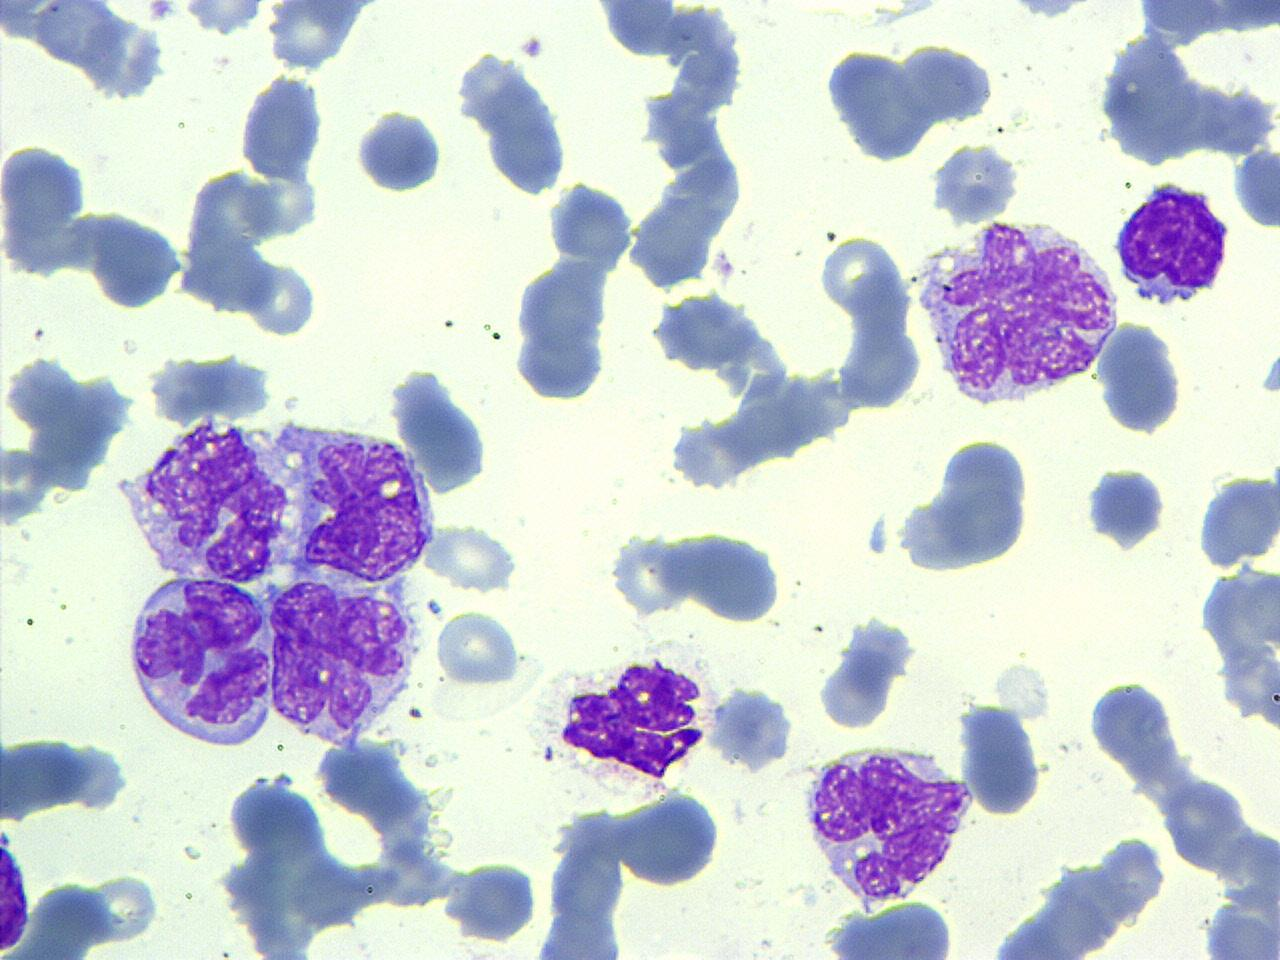Platelets: (349, 104, 445, 195), (1083, 462, 1167, 549), (422, 523, 522, 594), (1231, 145, 1280, 232), (1002, 1, 1100, 22), (864, 512, 891, 560), (1258, 354, 1280, 399), (520, 33, 546, 61), (146, 0, 175, 22), (426, 596, 444, 616), (1268, 458, 1280, 484)
RBC: (0, 139, 102, 282), (614, 786, 724, 890), (670, 528, 784, 628), (817, 232, 904, 318), (606, 530, 690, 617), (434, 606, 522, 688), (422, 522, 522, 594)
WBC: (0, 0, 443, 384), (312, 3, 768, 358), (104, 353, 449, 770), (211, 735, 474, 958), (906, 210, 1122, 416), (0, 722, 170, 960), (1092, 1, 1280, 173), (505, 173, 636, 405), (800, 738, 975, 910), (260, 570, 426, 746), (125, 570, 279, 752), (0, 342, 144, 536), (546, 646, 718, 802), (817, 34, 1003, 171), (892, 432, 1040, 580), (1197, 520, 1280, 764), (453, 46, 577, 201), (1111, 177, 1235, 310), (386, 359, 498, 501), (1, 136, 100, 278), (815, 610, 919, 736), (615, 784, 726, 892), (1093, 317, 1187, 440), (670, 524, 784, 626), (1086, 672, 1190, 781), (955, 696, 1047, 817), (237, 70, 328, 184), (352, 103, 447, 196), (816, 898, 962, 959), (928, 138, 1024, 227), (1195, 471, 1279, 572), (1082, 460, 1170, 552), (1122, 0, 1278, 51), (710, 683, 798, 772), (608, 528, 690, 618), (1, 814, 34, 956), (176, 1, 276, 36)
